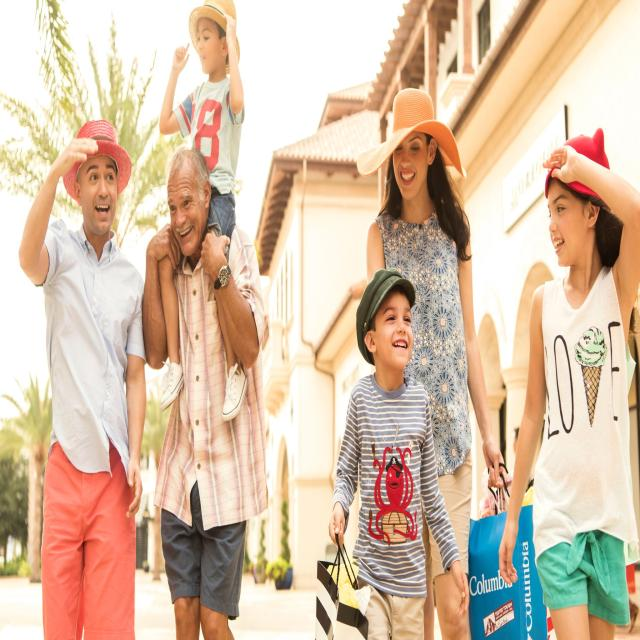body: (354, 84, 508, 639), (496, 126, 640, 640), (16, 115, 148, 640), (139, 140, 274, 640), (321, 260, 474, 640), (153, 0, 256, 422), (136, 446, 162, 576), (499, 372, 508, 476), (512, 426, 520, 453)
